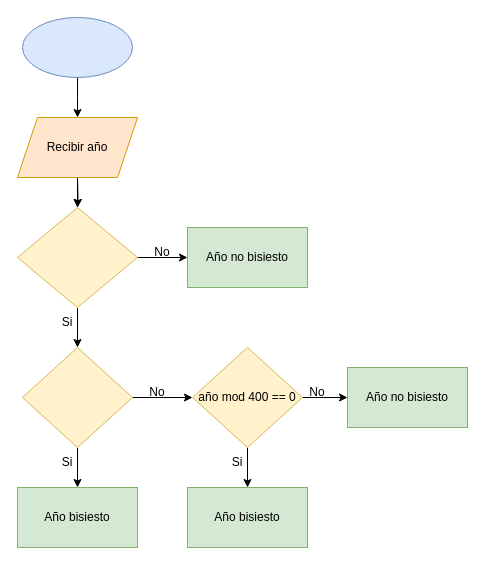
Image size: 485x565. Some labels were removed from this diagram. The shapes that lost their labels are listed below. From the top down, each one's box as (x1, y1, x2, y2) in pixels, then its label:
(22, 16, 132, 78): Inicio
(16, 206, 138, 308): año mod 4 == 0
(22, 346, 132, 448): año mod 100 != 0
